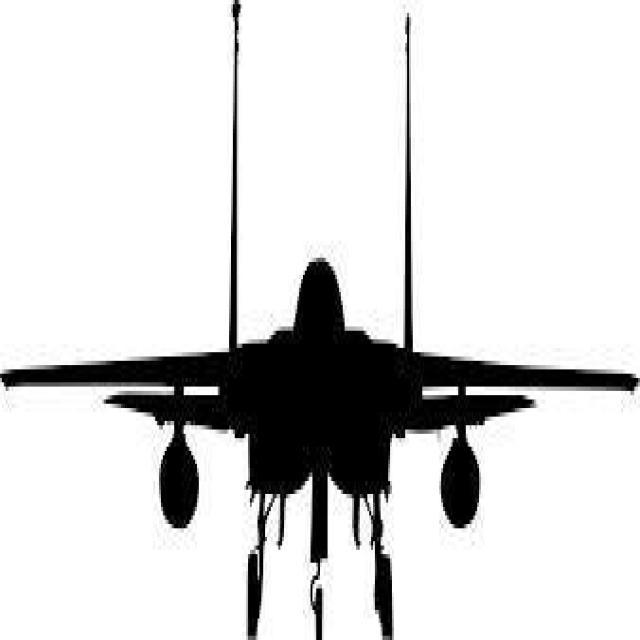MIL_MBT: (30, 75, 608, 612)
